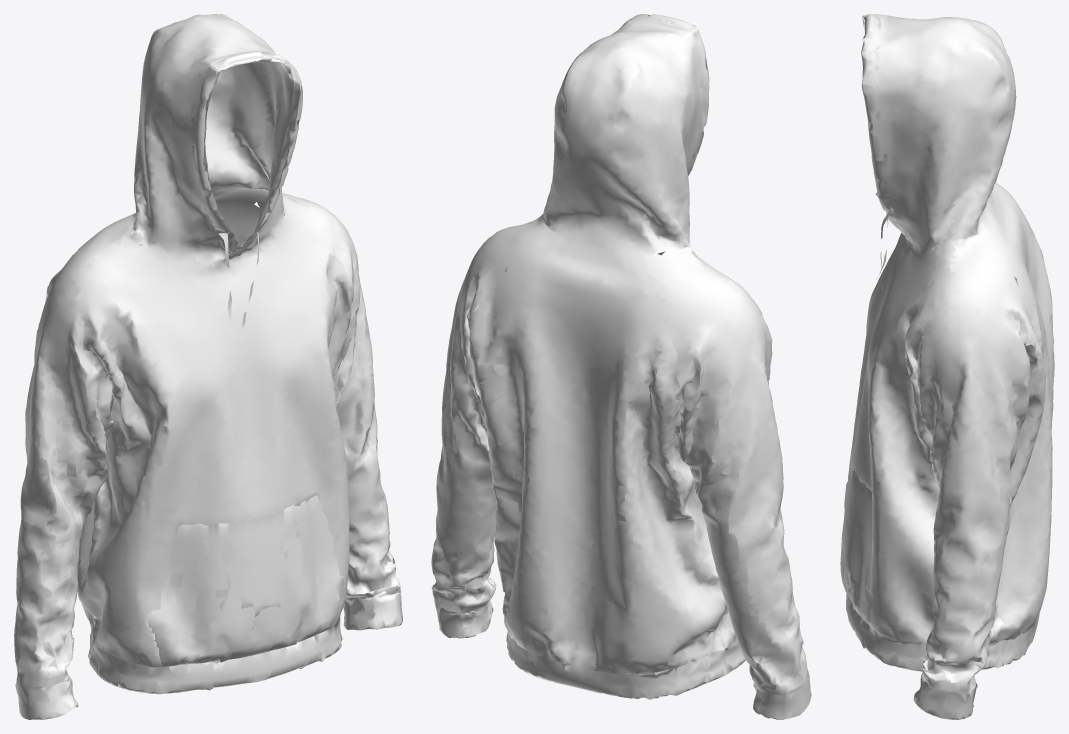
File: sudadera.glb
The picture shows the model from 3 angles, left to right: view 1: azimuth 30°, elevation 25°; view 2: azimuth 150°, elevation 25°; view 3: azimuth 270°, elevation 25°; orthographic projection. The views are drawn at different scales.
Parts seen in each view (by area): view 1: sudadera; view 2: sudadera; view 3: sudadera.
Boxes of the visible parts, x1,y1,x2,y2 form: sudadera: [14, 14, 402, 719]; sudadera: [431, 14, 811, 719]; sudadera: [840, 14, 1054, 719].
Size of the model in its own units: 0.4837 by 0.799 by 0.25.
Materials: 1 (1 with a texture image).
